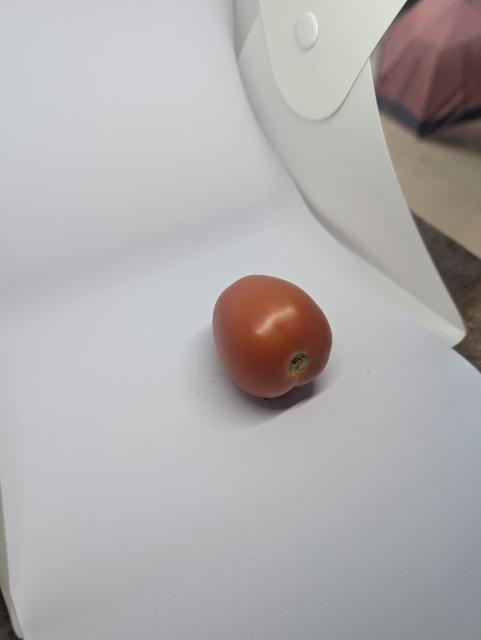red: (205, 272, 342, 415)
